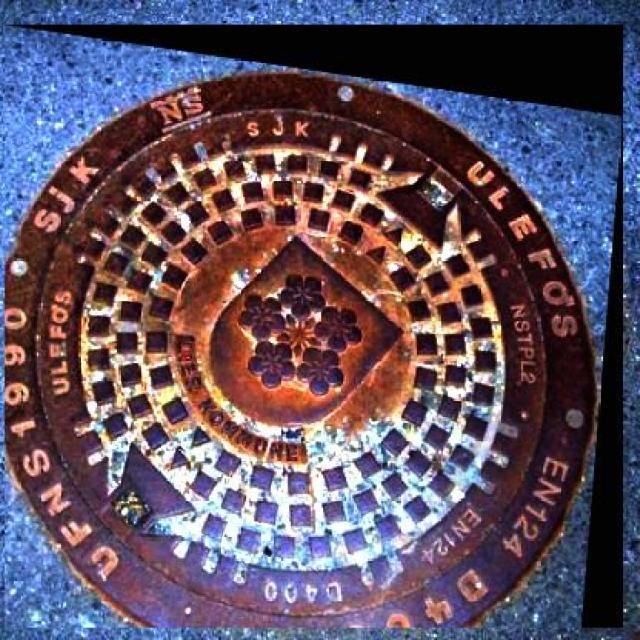Manhole: (5, 24, 624, 628)
